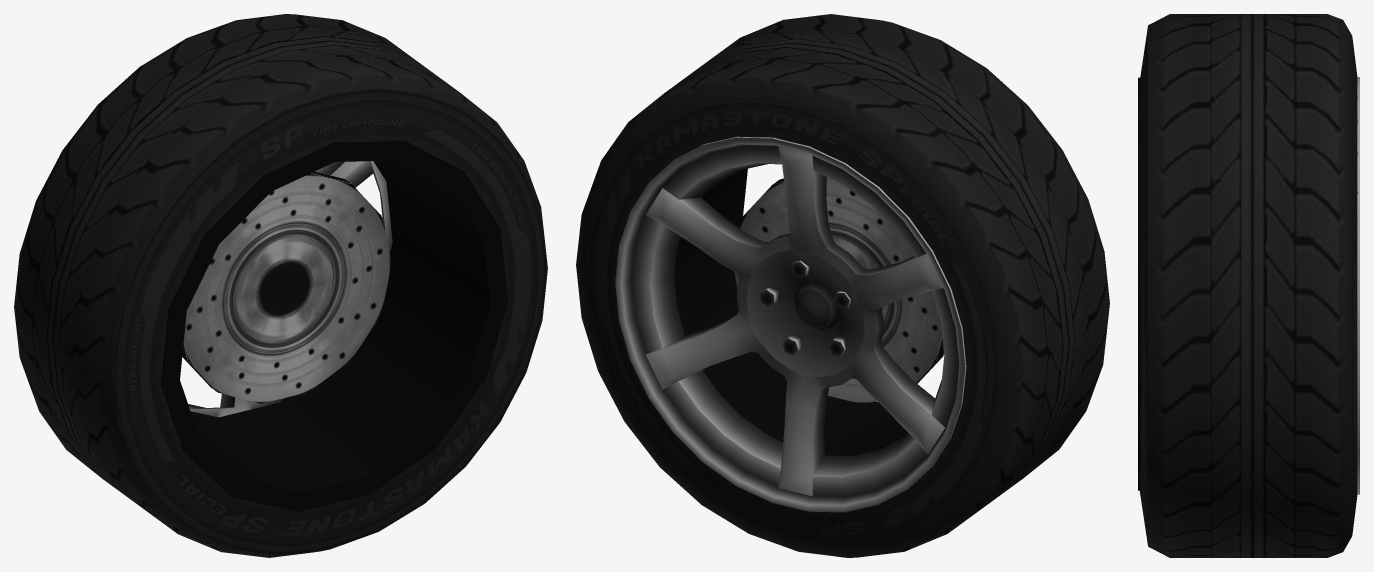
The model's file is gallo99_wheelstock_fl_rb1c_tire_1k_0_lev3.glb.
3 views of the same model, side by side, from view 1: azimuth 30°, elevation 25°; view 2: azimuth 150°, elevation 25°; view 3: azimuth 270°, elevation 25° (orthographic). The views are drawn at different scales.
Visible parts, largest first — view 1: gallo99_wheelstock_fl_rb1c_tire_1k_0_lev3; view 2: gallo99_wheelstock_fl_rb1c_tire_1k_0_lev3; view 3: gallo99_wheelstock_fl_rb1c_tire_1k_0_lev3.
Part boxes in pixels (bbox=[...]): gallo99_wheelstock_fl_rb1c_tire_1k_0_lev3: bbox=[14, 14, 547, 557]; gallo99_wheelstock_fl_rb1c_tire_1k_0_lev3: bbox=[576, 14, 1109, 557]; gallo99_wheelstock_fl_rb1c_tire_1k_0_lev3: bbox=[1138, 14, 1359, 557].
Bounding box in the file's own units: 0.6497 × 0.6497 × 0.2649.
1 material, 1 textured.
